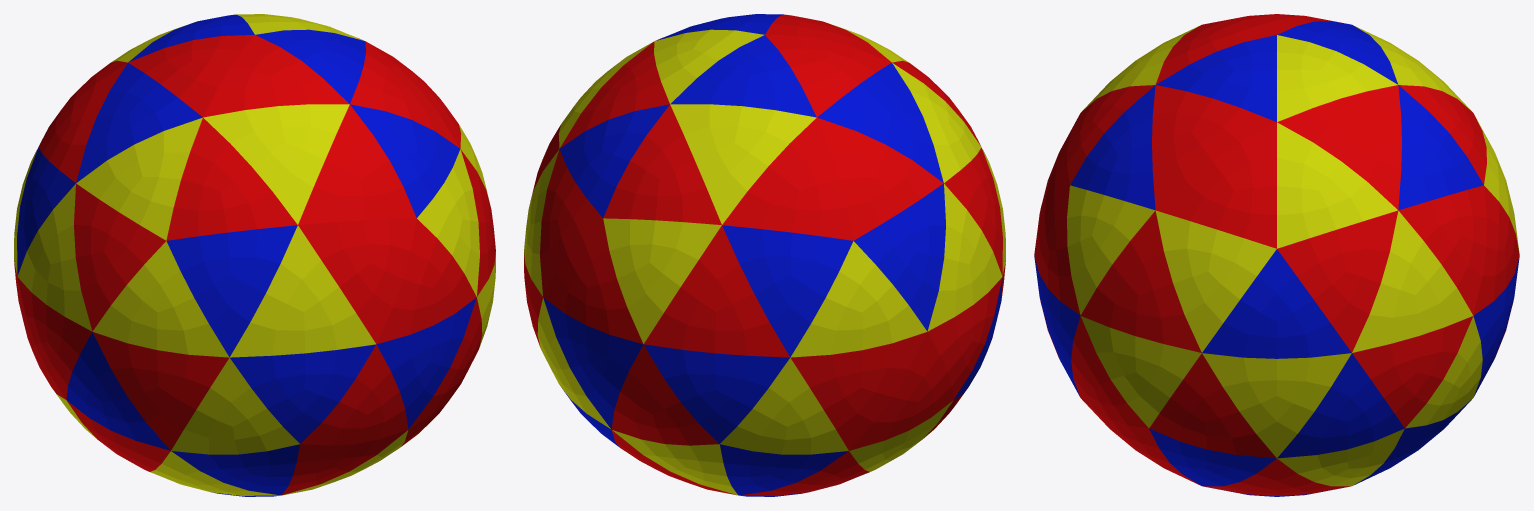
The picture shows the model from 3 angles, left to right: view 1: azimuth 30°, elevation 25°; view 2: azimuth 150°, elevation 25°; view 3: azimuth 270°, elevation 25°; orthographic projection.
Visible parts, largest first — view 1: Icosphere; view 2: Icosphere; view 3: Icosphere.
Part boxes in pixels (x1,y1,x2,y2): Icosphere: (14,14,495,496); Icosphere: (524,14,1005,496); Icosphere: (1034,14,1519,496).
Bounding box in the file's own units: 186 × 187 × 187.
